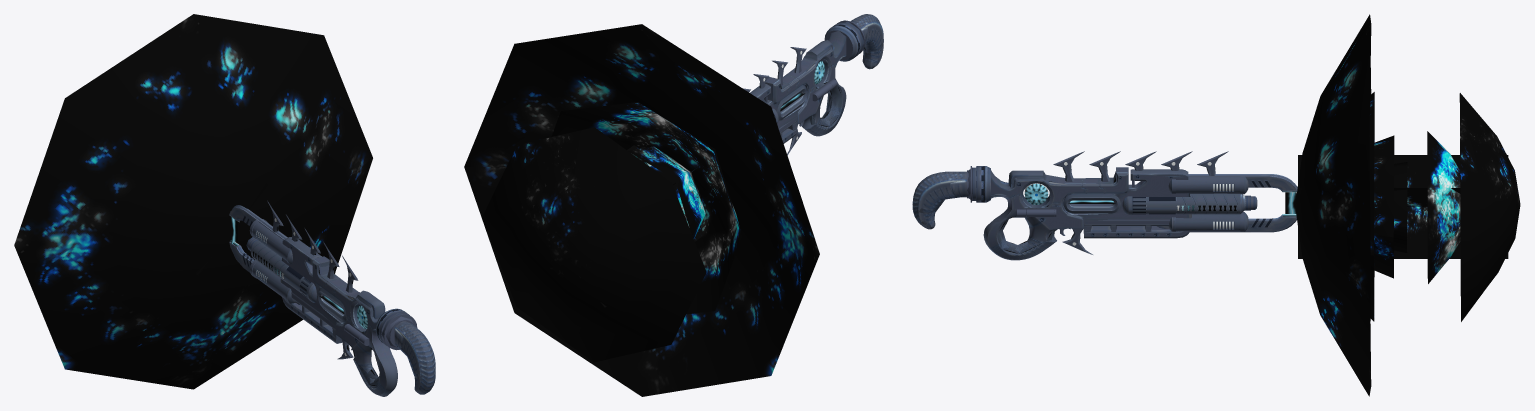
Rendered from TP_Kraad.DAE.
3 renders of one model, left to right at view 1: azimuth 30°, elevation 25°; view 2: azimuth 150°, elevation 25°; view 3: azimuth 270°, elevation 25°, orthographic. The views are drawn at different scales.
Parts seen in each view (by area): view 1: Kraad_MuzzleFlash4_LOD300, Kraad_LOD300, Kraad_LOD100, Kraad_LOD200; view 2: Kraad_MuzzleFlash4_LOD300, Kraad_MuzzleFlash3_LOD300, Kraad_LOD300, Kraad_LOD100, Kraad_MuzzleFlash2_LOD300, Kraad_LOD200; view 3: Kraad_MuzzleFlash4_LOD300, Kraad_LOD300, Kraad_LOD100, Kraad_MuzzleFlash3_LOD300, Kraad_MuzzleFlash2_LOD300, Kraad_LOD200, Kraad_MuzzleFlash1_LOD300.
Boxes of the visible parts, bbox=[...] form: Kraad_MuzzleFlash4_LOD300: bbox=[14, 14, 372, 389]; Kraad_LOD300: bbox=[230, 200, 435, 396]; Kraad_LOD100: bbox=[229, 207, 419, 386]; Kraad_LOD200: bbox=[237, 208, 396, 391]; Kraad_MuzzleFlash4_LOD300: bbox=[464, 24, 819, 396]; Kraad_MuzzleFlash3_LOD300: bbox=[551, 102, 741, 314]; Kraad_LOD300: bbox=[743, 14, 883, 155]; Kraad_LOD100: bbox=[749, 21, 883, 154]; Kraad_MuzzleFlash2_LOD300: bbox=[628, 145, 705, 238]; Kraad_LOD200: bbox=[746, 32, 852, 145]; Kraad_MuzzleFlash4_LOD300: bbox=[1295, 14, 1520, 396]; Kraad_LOD300: bbox=[912, 151, 1297, 260]; Kraad_LOD100: bbox=[919, 157, 1296, 254]; Kraad_MuzzleFlash3_LOD300: bbox=[1298, 92, 1460, 321]; Kraad_MuzzleFlash2_LOD300: bbox=[1298, 135, 1394, 278]; Kraad_LOD200: bbox=[921, 158, 1295, 255]; Kraad_MuzzleFlash1_LOD300: bbox=[1298, 155, 1460, 258].
Size of what is drawn, in the model's own units: 1.1 by 1.68 by 1.1.
